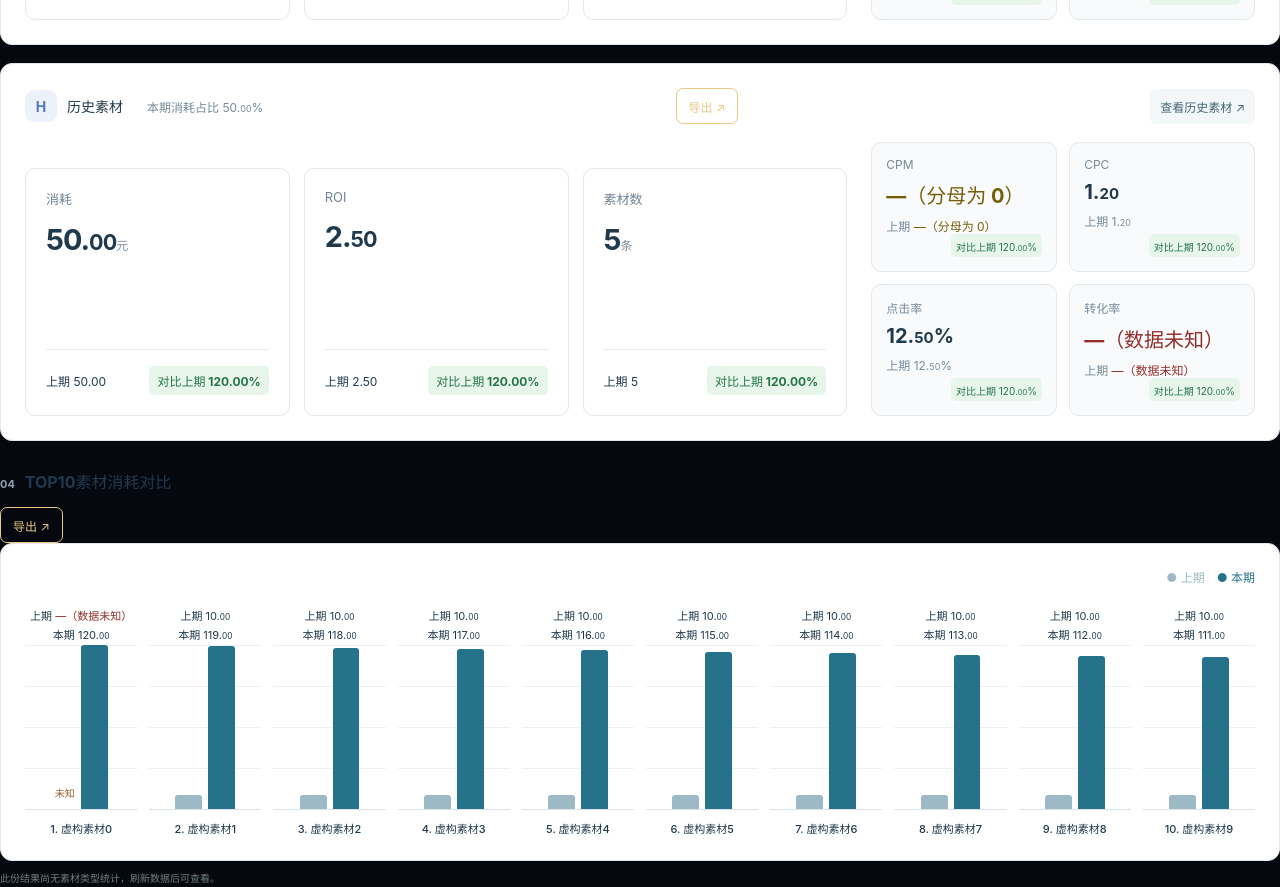
it: period review v2 › uses overall TOP10 directly, retains pending-creation members and opens their full period details
The width and height of the screenshot is (1280, 887).
(page scrolled)
Expected: the text "1. 虚构素材0" is shown, [50, 822, 112, 836]
Click the button "上期 —（数据未知） 本期 120.00 未知 1. 虚构素材0" at (81, 722), box [25, 607, 137, 836]
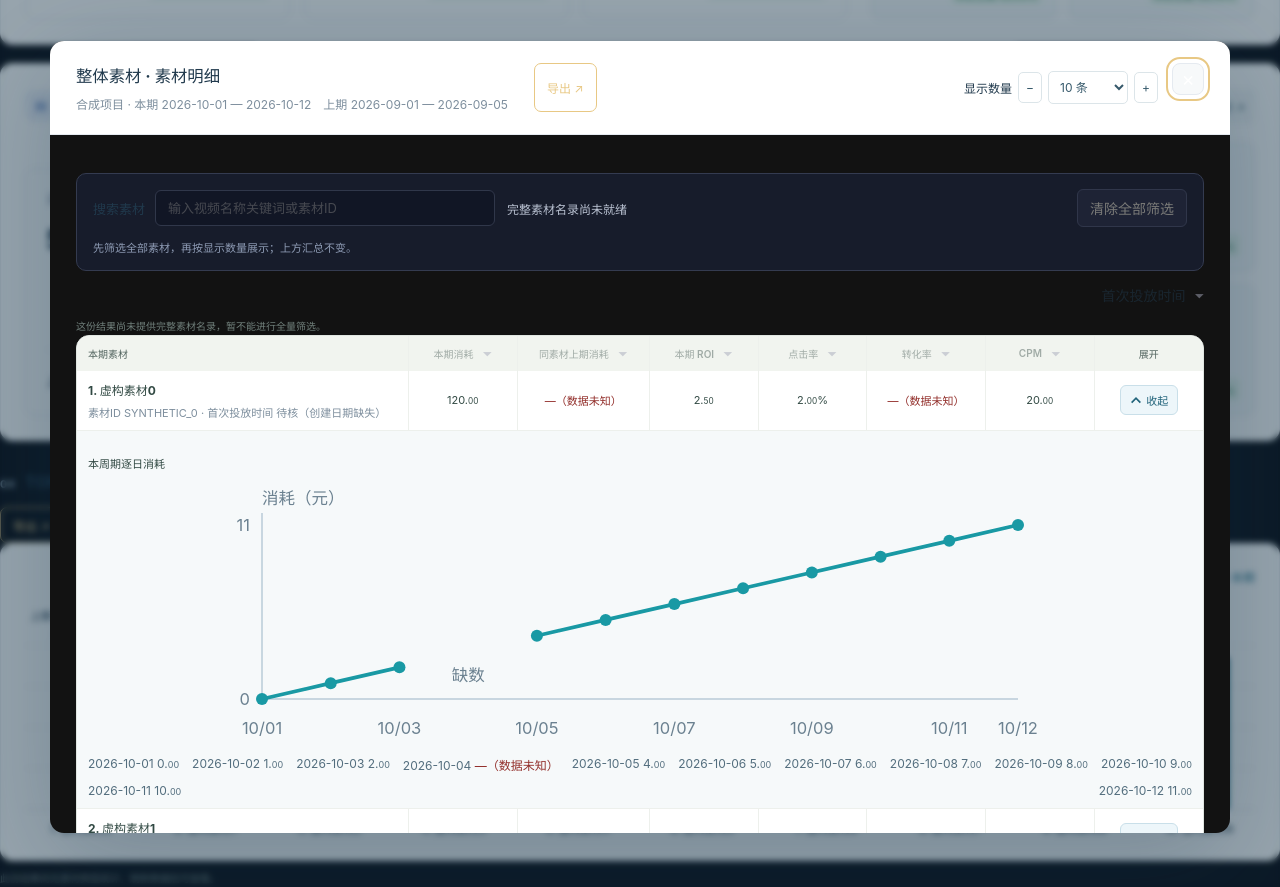
Now the heading "整体素材 · 素材明细" is shown, box [76, 66, 220, 86]
Now the column heading "本期素材" is shown, box [77, 336, 408, 370]
Now the table shows "创建日期缺失", box [88, 406, 386, 420]
